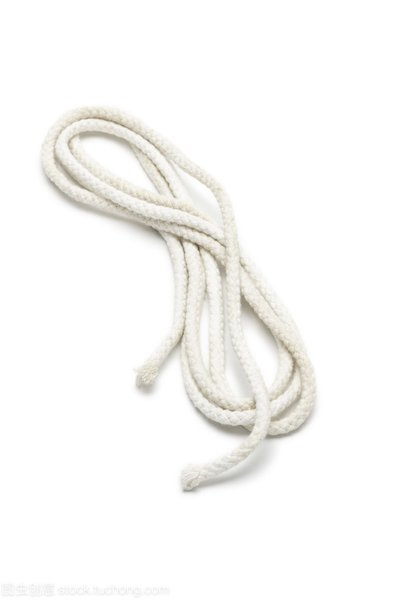9/可回收垃圾/绳子: (40, 107, 318, 494)
